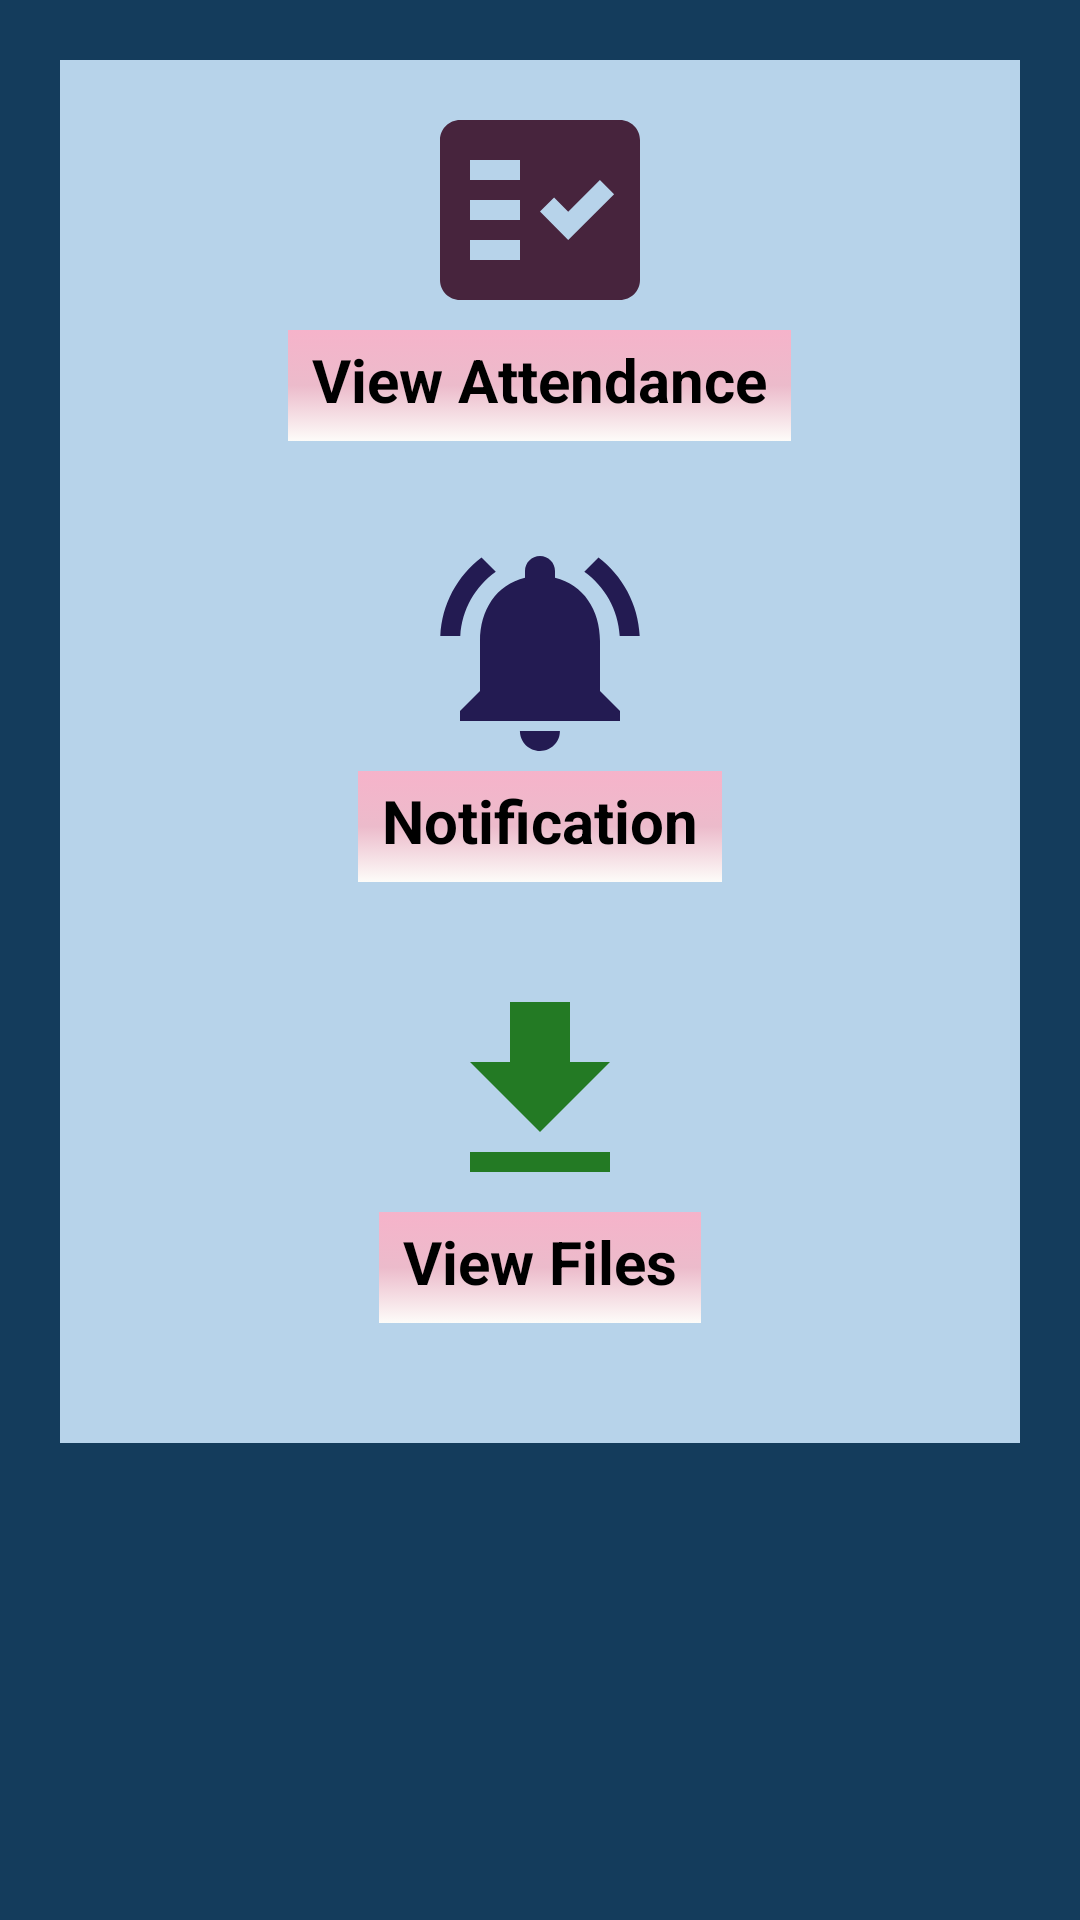

Named icons in this screenshot (1080*1920) and their bounding boxes, (x1, y1, x2, y2):
attchecklist: (440, 120, 640, 300)
file download: (470, 1002, 610, 1172)
